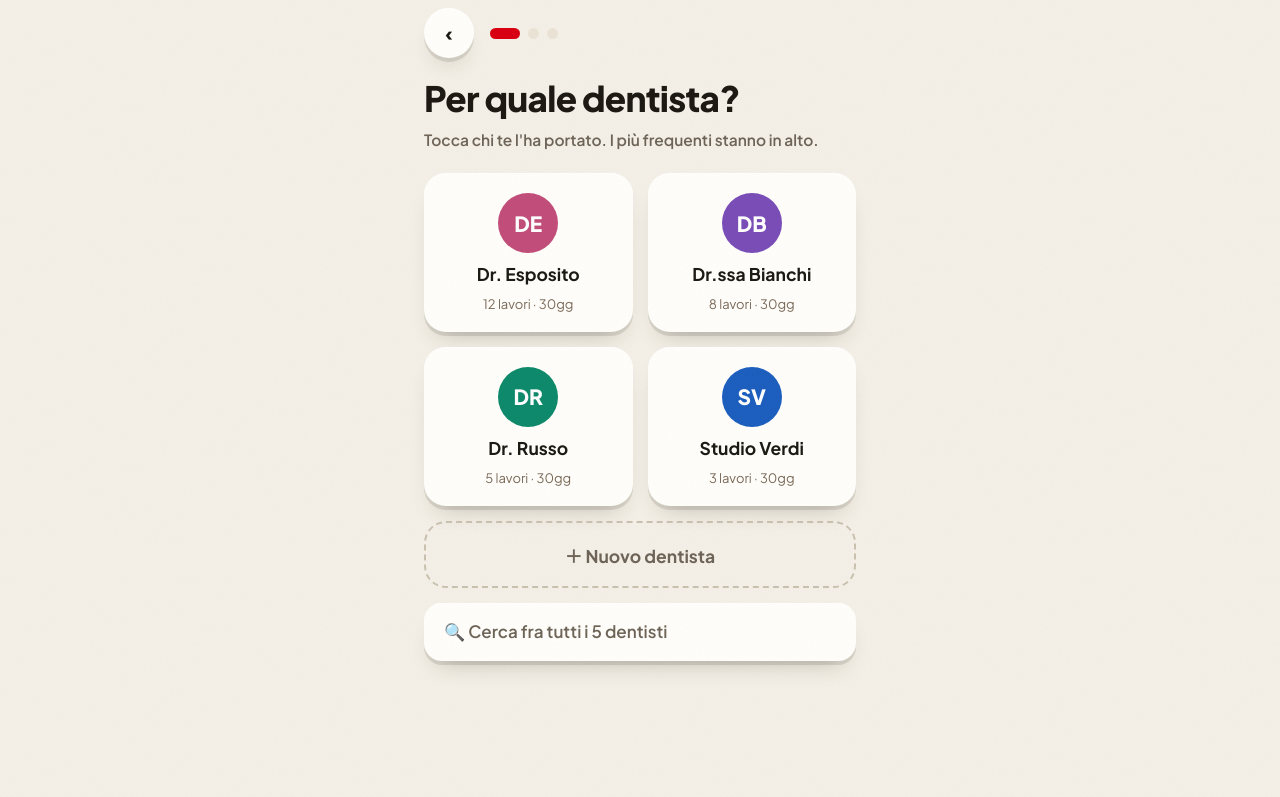
it: WizardNuovoLavoro — shell + Passo 1 dentisti (Task 8) › RigaCerca aperta: digitando "esp" la lista filtra (contains normalizzato)
Click the button "🔍 Cerca fra tutti i 5 dentisti".
click(640, 632)  # box top-left (424, 603), bottom-right (856, 661)
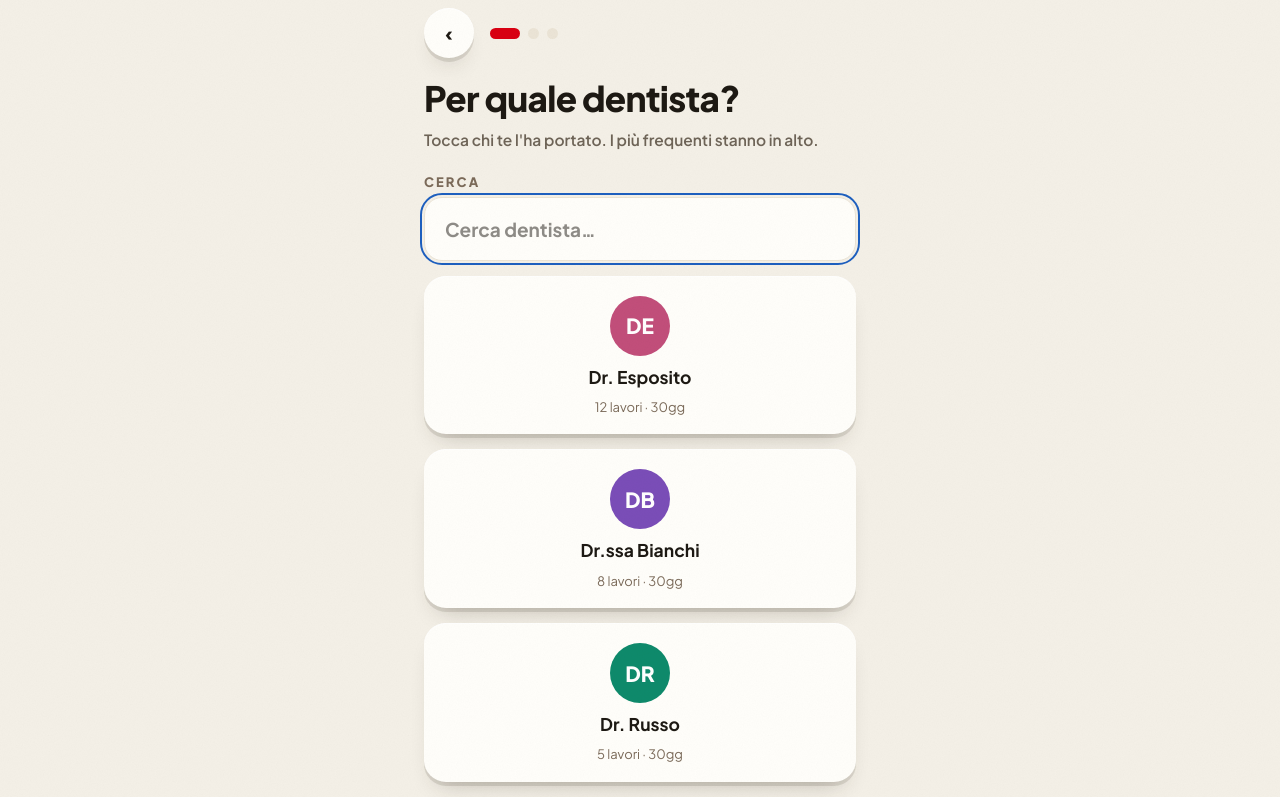
Type "esp" into the field.
click(640, 228); type("esp")  # box top-left (424, 196), bottom-right (856, 260)
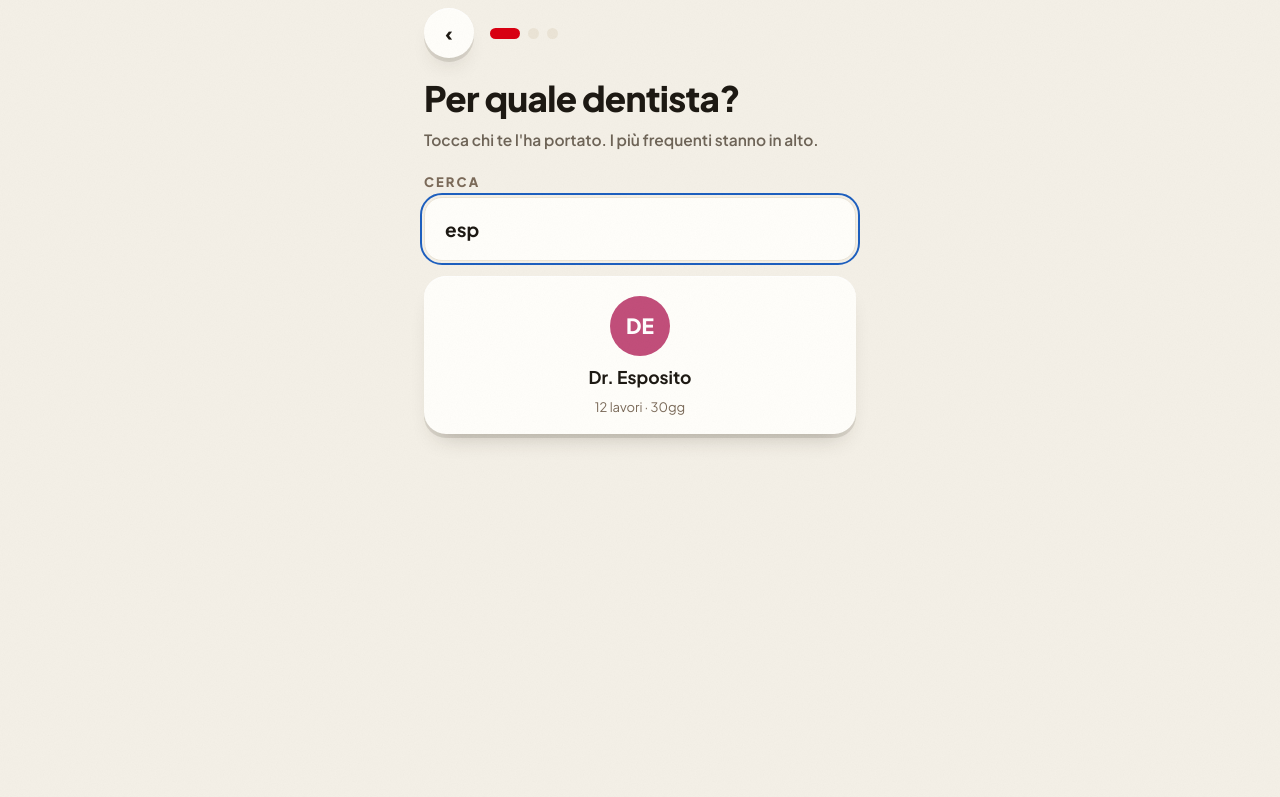
expect the button "DE Dr. Esposito 12 lavori · 30gg" is shown: met, box top-left (424, 276), bottom-right (856, 434)
expect the button "Dr.ssa Bianchi" is gone: met
